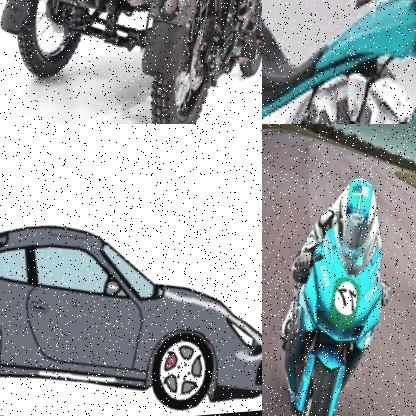bike: (262, 240, 398, 416), (262, 0, 416, 124)
car: (0, 183, 262, 416)
